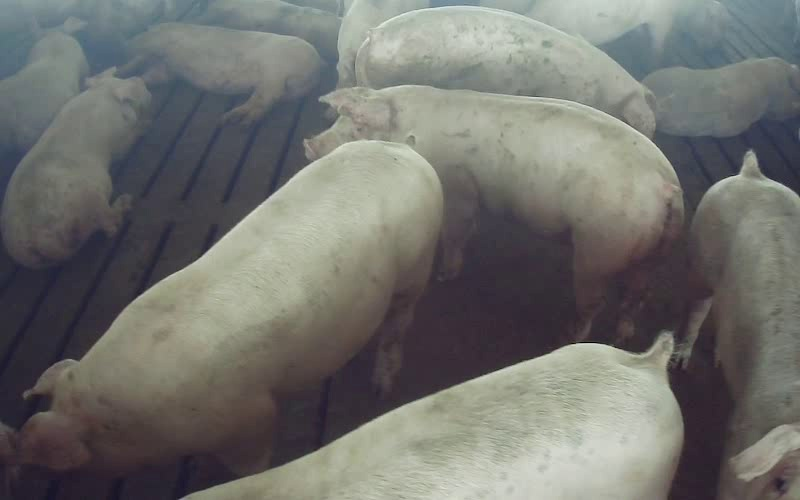pig: (18, 141, 442, 472), (305, 85, 683, 340), (184, 332, 682, 499), (675, 151, 799, 499), (356, 6, 654, 137), (2, 69, 150, 267), (119, 23, 320, 123), (643, 57, 799, 136), (0, 17, 88, 149)
